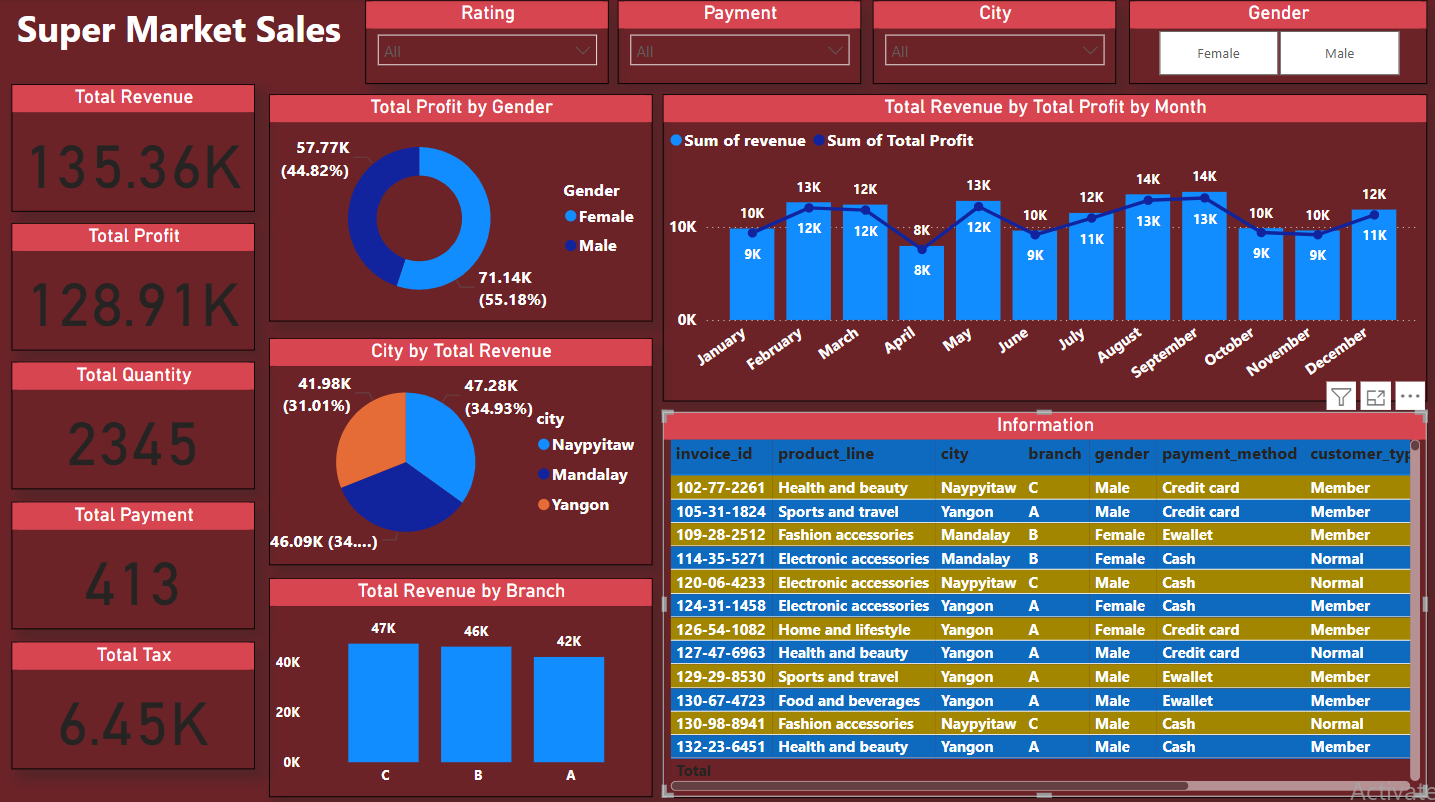

What the dashboard file says about the page in this screenshot:
{"tool":"powerbi","page":{"name":"Page 1","canvas":[1280,720],"ordinal":0},"visuals":[{"type":"textbox","box":[11,0,303.3,63.1],"z":0},{"type":"card","title":"Total Revenue","fields":{"Values":["Sum(supermarket_sales.revenue)"]},"box":[11,76.8,216.8,113.9],"z":1000},{"type":"card","title":"Total Profit","fields":{"Values":["Sum(supermarket_sales.Total Profit)"]},"box":[11,200.3,216.8,113.9],"z":2000},{"type":"card","title":"Total Quantity","fields":{"Values":["Sum(supermarket_sales.quantity)"]},"box":[11,323.8,216.8,113.9],"z":3000},{"type":"card","title":"Total Payment","fields":{"Values":["CountNonNull(supermarket_sales.payment_method)"]},"box":[11,448.7,216.8,113.9],"z":4000},{"type":"card","title":"Total Tax","fields":{"Values":["Sum(supermarket_sales.5pct_markup)"]},"box":[11,573.6,216.8,113.9],"z":5000},{"type":"slicer","title":"Rating","fields":{"Values":["supermarket_sales.rating"]},"box":[325.7,2.4,217.2,74.8],"z":6000},{"type":"slicer","title":"Payment","fields":{"Values":["supermarket_sales.payment_method"]},"box":[551.3,2.4,217.2,74.8],"z":7000},{"type":"slicer","title":"City","fields":{"Values":["supermarket_sales.city"]},"box":[778.2,2.4,217.2,74.8],"z":8000},{"type":"slicer","title":"Gender","fields":{"Values":["supermarket_sales.gender_customer"]},"box":[1006.2,2.4,265.4,74.8],"z":9000},{"type":"donutChart","title":"Total Profit by Gender","fields":{"Y":["Sum(supermarket_sales.Total Profit)"],"Category":["supermarket_sales.gender_customer"]},"box":[240.1,85.7,341.4,202.7],"z":10000},{"type":"pieChart","title":"City by Total Revenue","fields":{"Category":["supermarket_sales.city"],"Y":["Sum(supermarket_sales.revenue)"]},"box":[240.1,302.8,341.4,202.7],"z":11000},{"type":"columnChart","title":"Total Revenue by Branch","fields":{"Category":["supermarket_sales.branch"],"Y":["Sum(supermarket_sales.revenue)"]},"box":[240.1,516.4,341.4,195.4],"z":12000},{"type":"lineStackedColumnComboChart","title":"Total Revenue by Total Profit by Month","fields":{"Category":["supermarket_sales.date.Variation.Date Hierarchy.Month"],"Y":["Sum(supermarket_sales.revenue)"],"Y2":["Sum(supermarket_sales.Total Profit)"]},"box":[591.2,85.7,680.4,273.9],"z":13000},{"type":"tableEx","title":"Information","fields":{"Values":["supermarket_sales.invoice_id","supermarket_sales.product_line","supermarket_sales.city","supermarket_sales.branch","supermarket_sales.gender_customer","supermarket_sales.payment_method","supermarket_sales.customer_type","Sum(supermarket_sales.revenue)","Sum(supermarket_sales.Total Profit)"]},"box":[591.2,368,680.4,343.8],"z":14000}]}

Visuals, with their boxes on the page's 1280x720 design canvas (x1, y1, x2, y2). These are canvas units, not pixel positions in the 1435x802 screenshot, which may show the page scaled, cropped or inside an application window:
textbox: detection(11, 0, 314, 63)
"Total Revenue" card: detection(11, 77, 228, 191)
"Total Profit" card: detection(11, 200, 228, 314)
"Total Quantity" card: detection(11, 324, 228, 438)
"Total Payment" card: detection(11, 449, 228, 563)
"Total Tax" card: detection(11, 574, 228, 688)
"Rating" slicer: detection(326, 2, 543, 77)
"Payment" slicer: detection(551, 2, 768, 77)
"City" slicer: detection(778, 2, 995, 77)
"Gender" slicer: detection(1006, 2, 1272, 77)
"Total Profit by Gender" donutChart: detection(240, 86, 582, 288)
"City by Total Revenue" pieChart: detection(240, 303, 582, 506)
"Total Revenue by Branch" columnChart: detection(240, 516, 582, 712)
"Total Revenue by Total Profit by Month" lineStackedColumnComboChart: detection(591, 86, 1272, 360)
"Information" tableEx: detection(591, 368, 1272, 712)
